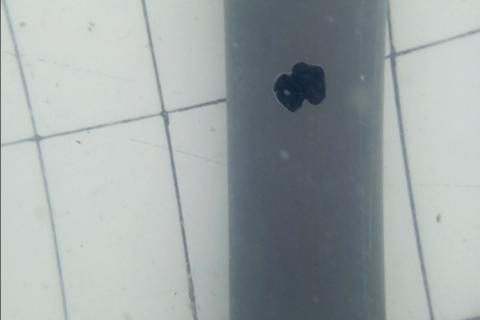kebocoran: (271, 59, 326, 112)
